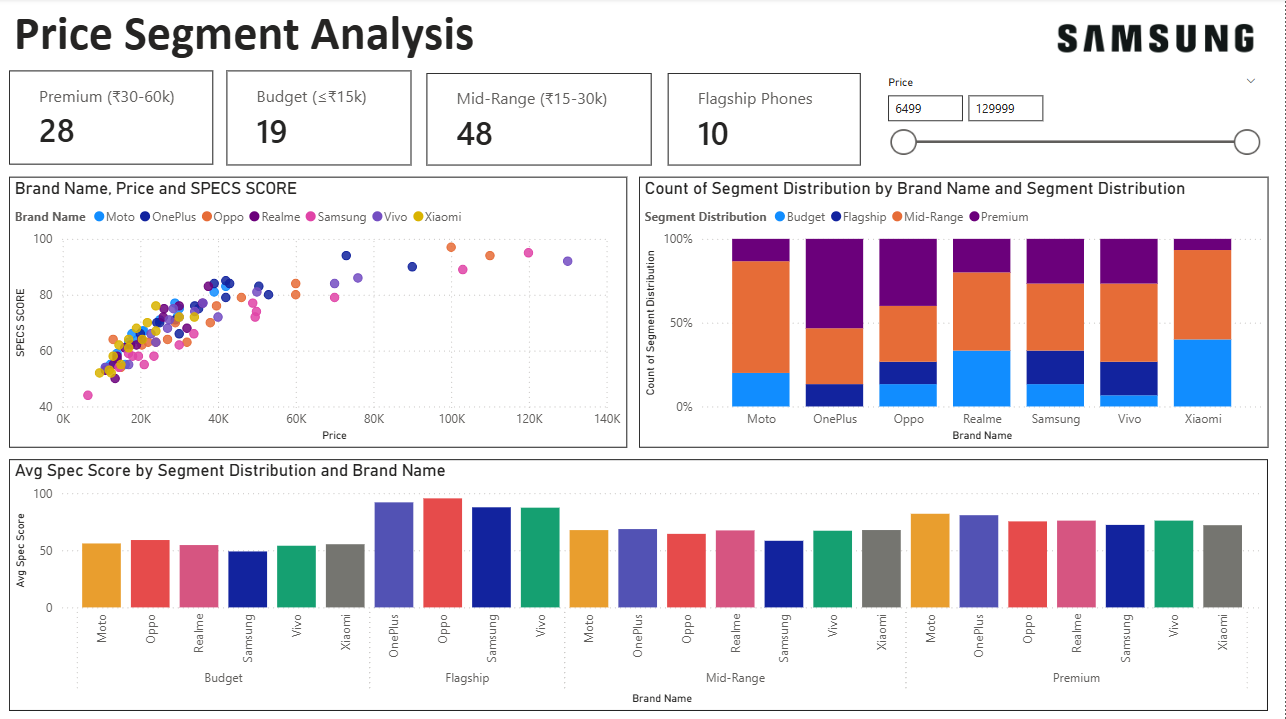

Layout of this report page (visuals, bound fields, positions):
{"tool":"powerbi","page":{"name":"Price Segments","canvas":[1280,720],"ordinal":1},"visuals":[{"type":"textbox","box":[9.9,0,502.8,74.6],"z":0},{"type":"hundredPercentStackedColumnChart","fields":{"Category":["MobileTable.Brand Name"],"Y":["CountNonNull(MobileTable.Segment Distribution)"],"Series":["MobileTable.Segment Distribution"]},"box":[636.8,177.7,626.6,269.8],"z":1000},{"type":"scatterChart","fields":{"X":["MobileTable.Price"],"Y":["MobileTable.SPECS SCORE"],"Series":["MobileTable.Brand Name"]},"box":[10.2,177.7,615.1,269.8],"z":2000},{"type":"clusteredColumnChart","fields":{"Y":["MobileTable.Avg Spec Score"],"Category":["MobileTable.Segment Distribution","MobileTable.Brand Name"]},"box":[10.2,459.1,1253.1,250.6],"z":3000},{"type":"cardVisual","fields":{"Data":["MobileTable.Budget Phones"]},"box":[226.3,71.6,184.1,94.6],"z":4000},{"type":"cardVisual","fields":{"Data":["MobileTable.Mid-Range (₹15-30k)"]},"box":[425.8,74.2,223.8,92.1],"z":5000},{"type":"cardVisual","fields":{"Data":["MobileTable.Premium (₹30-60k)"]},"box":[10.2,71.6,203.3,93.3],"z":6000},{"type":"cardVisual","fields":{"Data":["MobileTable.Flagship Phones"]},"box":[664.9,74.2,191.8,92.1],"z":7000},{"type":"slicer","fields":{"Values":["MobileTable.Price"]},"box":[872.1,71.6,391.3,94.6],"z":8000},{"type":"image","box":[1035.2,0,232.4,80.3],"z":9000}]}

Visuals, with their boxes in screenshot pixels (x1, y1, x2, y2), scaled from the page's 1280x720 canvas onto the 1286x719 screenshot:
textbox: bbox(10, 0, 515, 74)
hundredPercentStackedColumnChart - MobileTable.Brand Name x CountNonNull(MobileTable.Segment Distribution): bbox(640, 177, 1269, 447)
scatterChart - MobileTable.Price x MobileTable.SPECS SCORE: bbox(10, 177, 628, 447)
clusteredColumnChart - MobileTable.Avg Spec Score x MobileTable.Segment Distribution: bbox(10, 458, 1269, 709)
cardVisual - MobileTable.Budget Phones: bbox(227, 72, 412, 166)
cardVisual - MobileTable.Mid-Range (₹15-30k): bbox(428, 74, 653, 166)
cardVisual - MobileTable.Premium (₹30-60k): bbox(10, 72, 215, 165)
cardVisual - MobileTable.Flagship Phones: bbox(668, 74, 861, 166)
slicer - MobileTable.Price: bbox(876, 72, 1269, 166)
image: bbox(1040, 0, 1274, 80)
